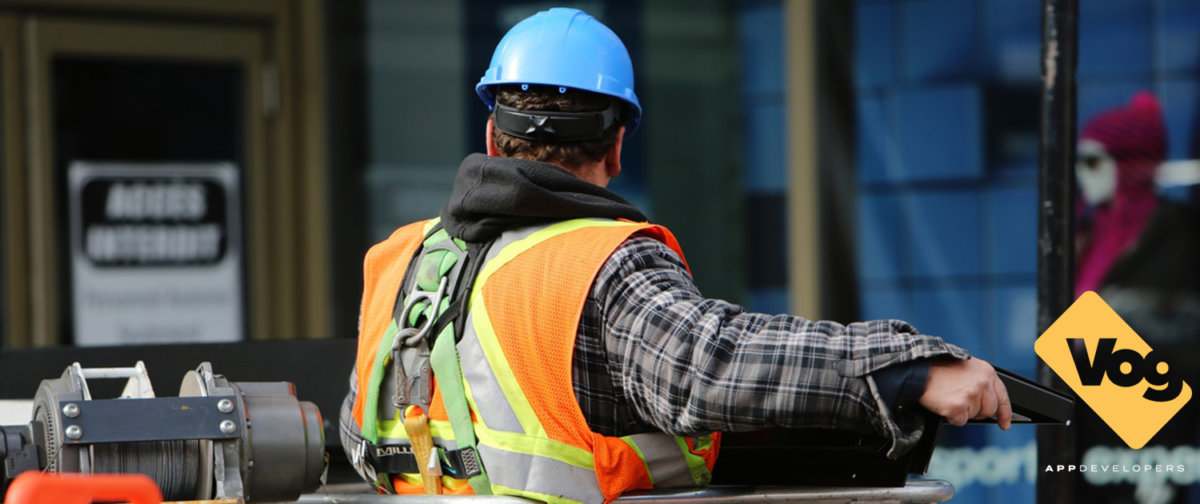epi: (337, 5, 1013, 497)
